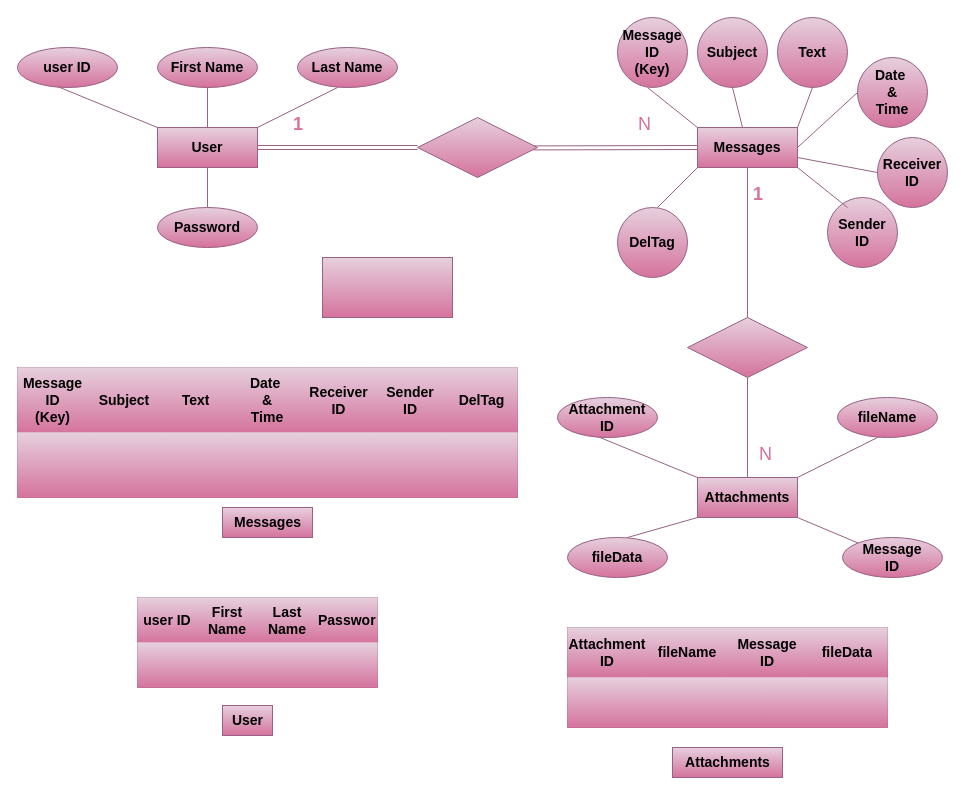
Image size: 965x795. Some labels were removed from this diagram. The shapes that lost their labels are listed below. From the top down, each one's centre as x and y in pixels, then its label:
At (x=477, y=147): "Send".
At (x=387, y=287): "دانش خدادادزاده 401 433 597".
At (x=747, y=347): "Attach".
